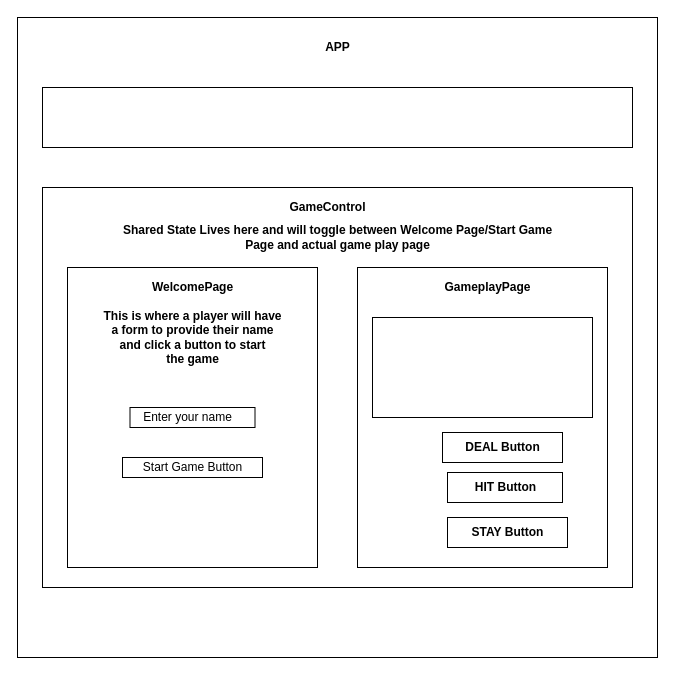
Image size: 675x675. Some labels were removed from this diagram. The box of each missing label's shape, as (x1, y1, x2, y2) in pixels:
HEADER: (42, 86, 632, 148)
Where the game play will visually take place: (372, 316, 592, 418)
